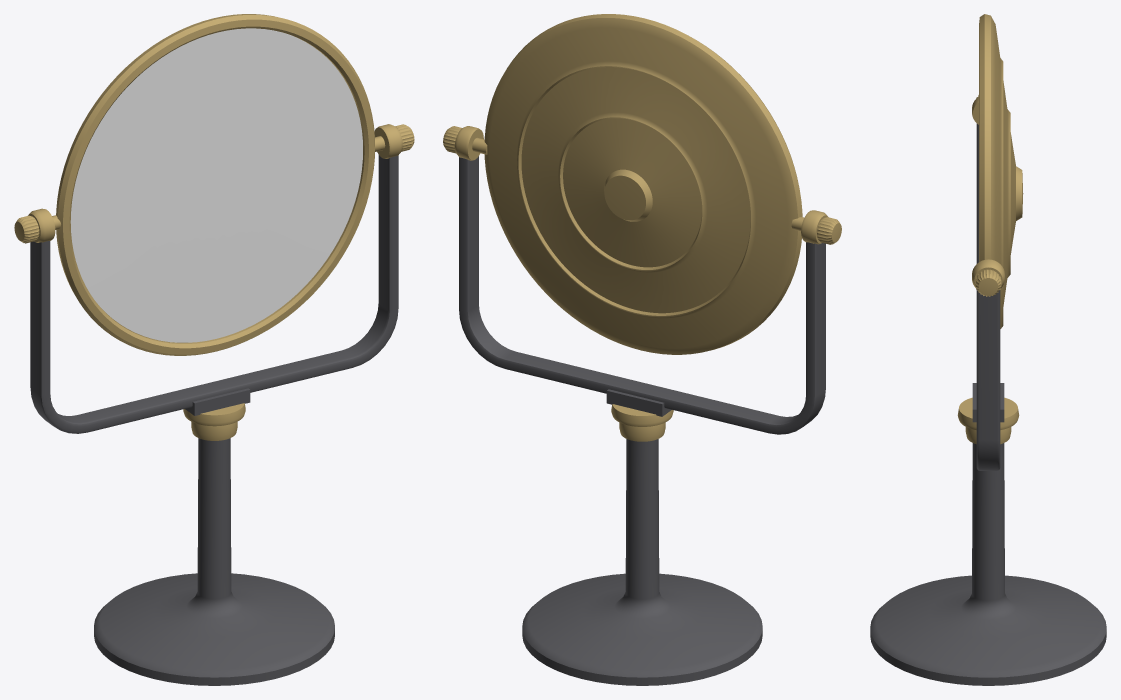
The model's file is Reflector.fbx.
3 renders of one model, left to right at view 1: azimuth 30°, elevation 25°; view 2: azimuth 150°, elevation 25°; view 3: azimuth 270°, elevation 25°, orthographic.
Visible parts, largest first — view 1: Pivot, Base; view 2: Pivot, Base; view 3: Base, Pivot.
Part boxes in pixels (left/top/right/bottom): Pivot: left=14, top=14, right=414, bottom=433; Base: left=94, top=422, right=334, bottom=685; Pivot: left=443, top=14, right=841, bottom=434; Base: left=522, top=422, right=762, bottom=685; Base: left=870, top=427, right=1106, bottom=685; Pivot: left=957, top=14, right=1023, bottom=470.
Bounding box in the file's own units: 1.12 × 1.71 × 0.6.
